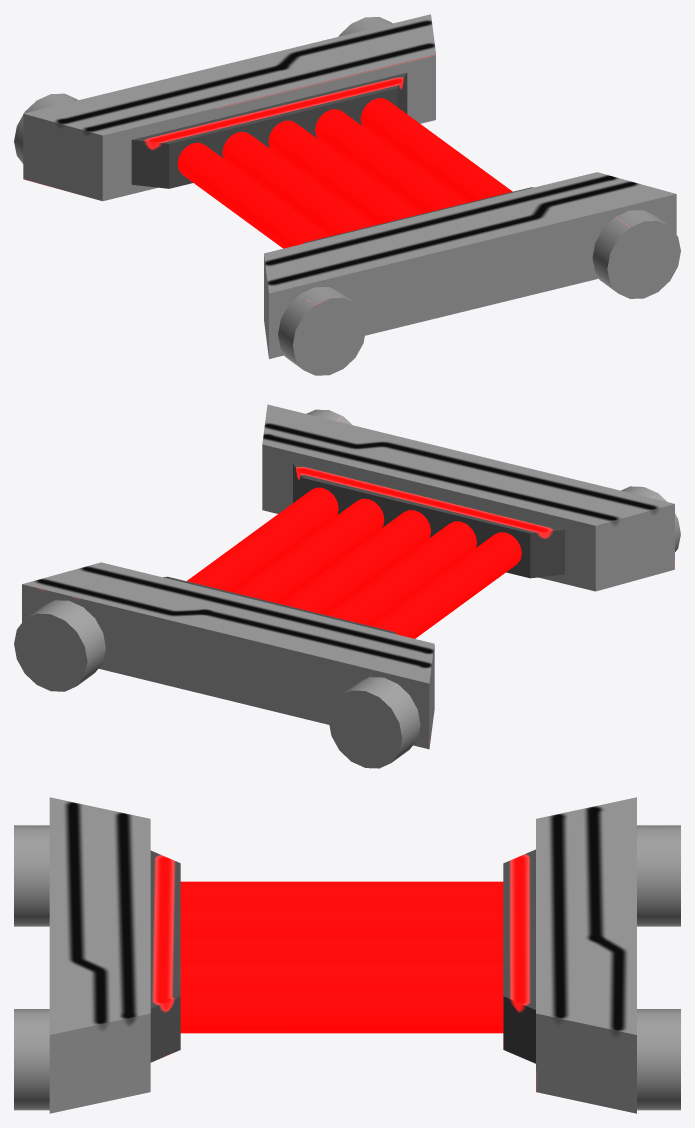
Rendered from Laser.fbx.
3 renders of one model, top to bottom at view 1: azimuth 30°, elevation 25°; view 2: azimuth 150°, elevation 25°; view 3: azimuth 270°, elevation 25°, orthographic. The views are drawn at different scales.
Parts seen in each view (by area): view 1: End001, End002, End003, Wheel004, Wheel003, Laser005, Laser002, Laser003, Laser001, Laser004, Wheel002; view 2: End002, End001, End004, Wheel001, Wheel002, Laser005, Laser002, Laser003, Laser001, Laser004, End003; view 3: End001, End002, Laser001, Laser003, Laser004, Laser002, Laser005, End003, End004, Wheel001, Wheel002, Wheel004 (+1 smaller).
Boxes of the visible parts, box(x1,y1,x2,y2) form: End001: box(264, 172, 676, 358); End002: box(23, 14, 435, 201); End003: box(131, 72, 407, 188); Wheel004: box(278, 287, 366, 375); Wheel003: box(592, 210, 680, 298); Laser005: box(177, 142, 329, 248); Laser002: box(315, 109, 466, 213); Laser003: box(268, 120, 420, 225); Laser001: box(360, 98, 512, 202); Laser004: box(222, 132, 374, 236); Wheel002: box(14, 93, 77, 163); End002: box(22, 562, 434, 749); End001: box(262, 404, 674, 591); End004: box(293, 463, 564, 578); Wheel001: box(14, 600, 105, 691); Wheel002: box(328, 677, 420, 768); Laser005: box(370, 532, 521, 638); Laser002: box(232, 498, 384, 603); Laser003: box(279, 510, 430, 614); Laser001: box(187, 487, 338, 592); Laser004: box(325, 521, 476, 625); End003: box(163, 576, 396, 634); End001: box(49, 797, 150, 1113); End002: box(536, 797, 636, 1113); Laser001: box(180, 988, 503, 1033); Laser003: box(180, 934, 503, 961); Laser004: box(180, 907, 503, 934); Laser002: box(180, 961, 503, 988); Laser005: box(180, 881, 503, 907); End003: box(503, 849, 535, 1063); End004: box(150, 850, 180, 1062); Wheel001: box(637, 1009, 680, 1110); Wheel002: box(637, 825, 680, 926); Wheel004: box(14, 825, 49, 926).
Bounding box in the file's own units: 40.65 × 7.82 × 48.16.
Materials: 1 (1 with a texture image).
